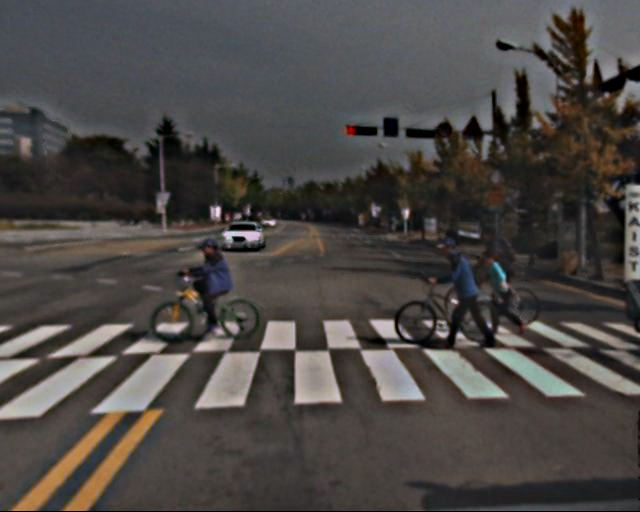person: (439, 237, 487, 349), (473, 227, 515, 329), (192, 238, 234, 336), (485, 249, 526, 338)
